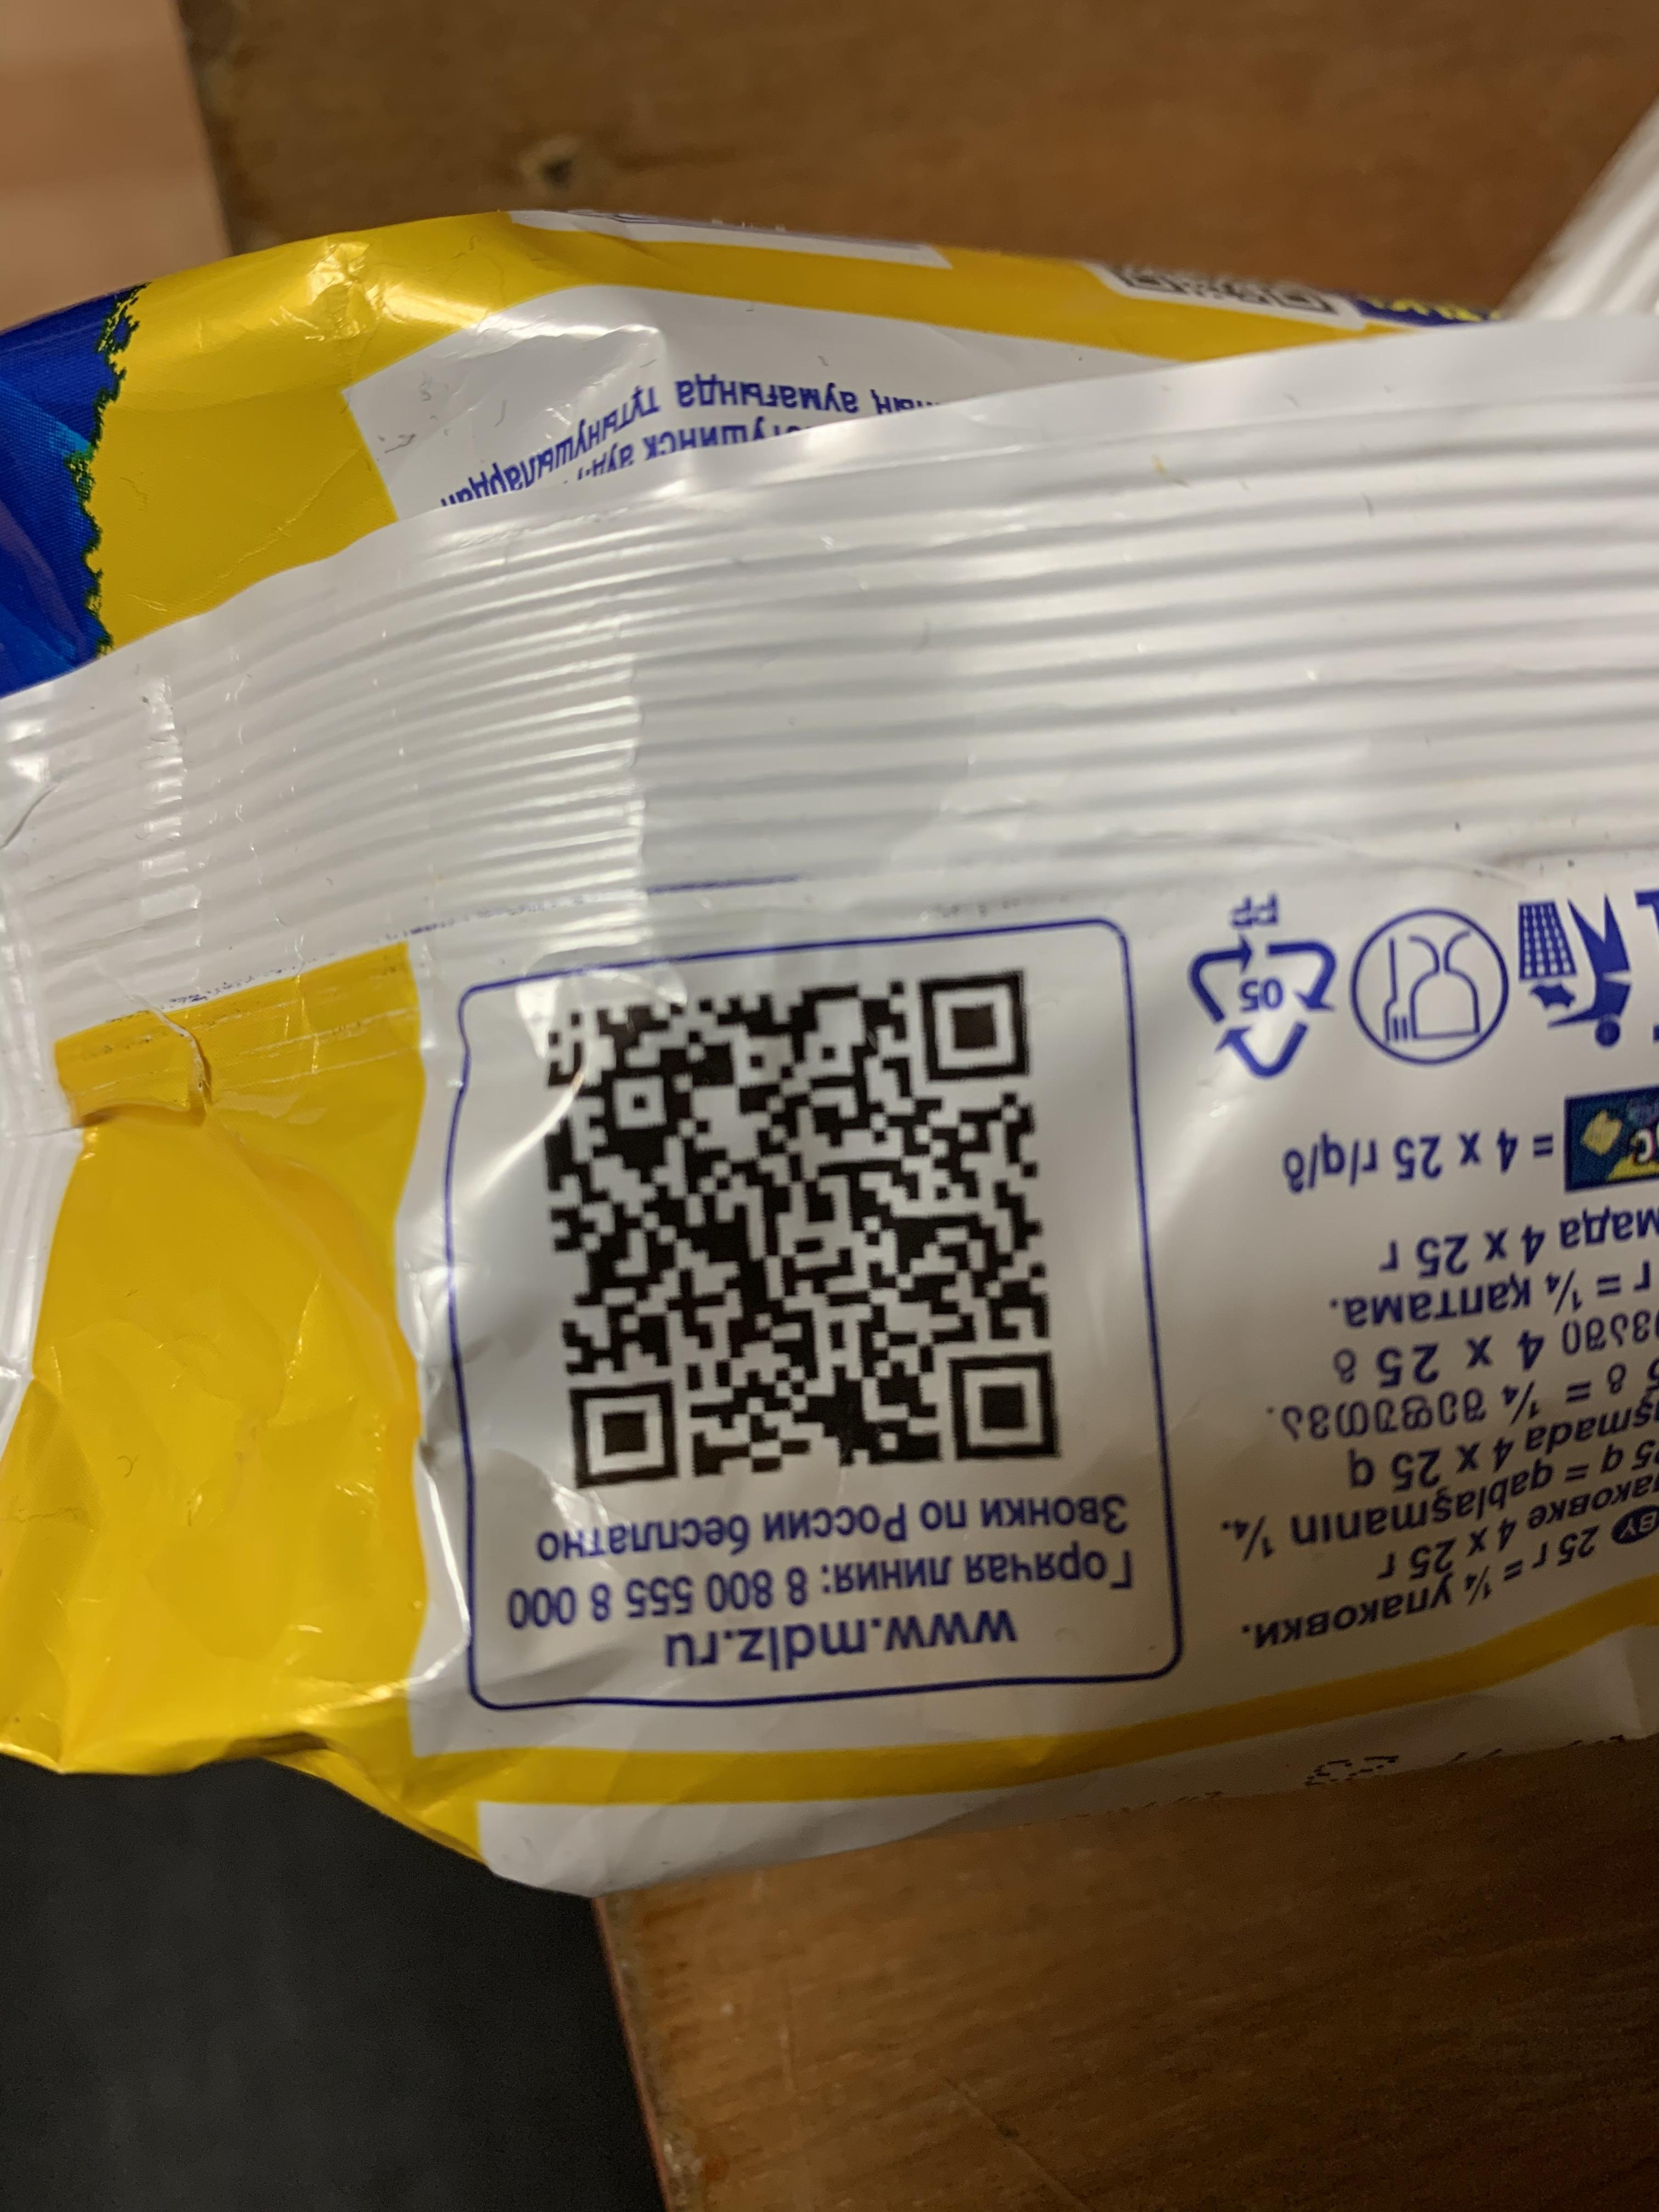qrcode: (547, 967, 1070, 1493)
